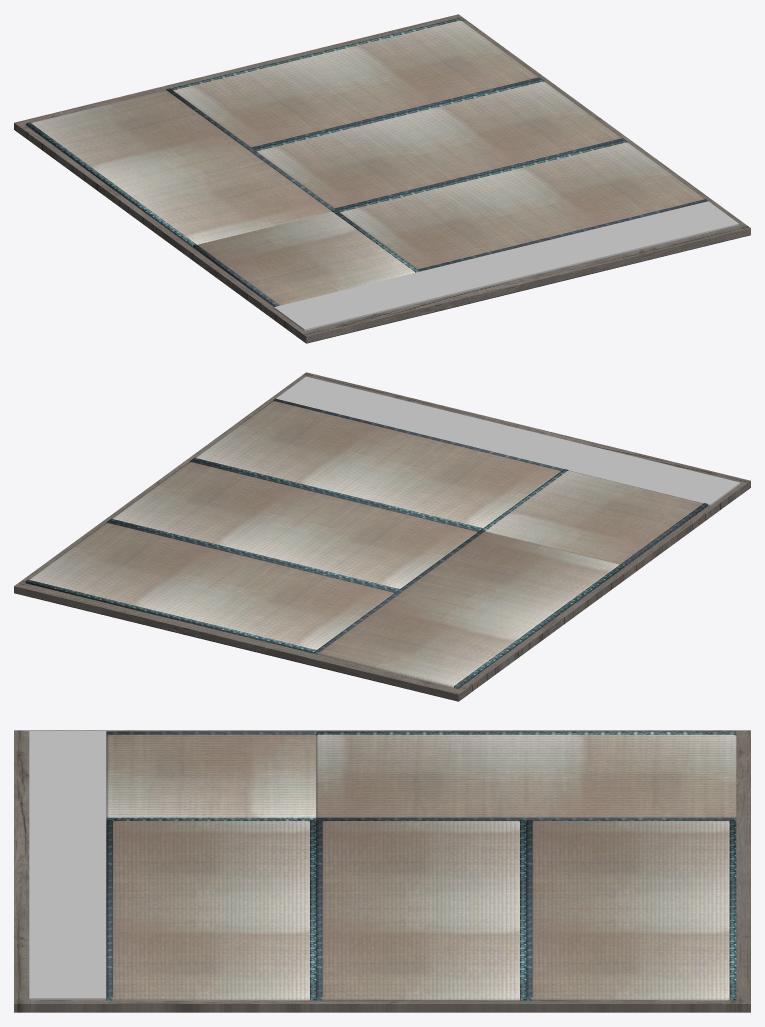
File: jov_tatami_4.5tb.fbx
3 views of the same model, one above another, from view 1: azimuth 30°, elevation 25°; view 2: azimuth 150°, elevation 25°; view 3: azimuth 270°, elevation 25° (orthographic). The views are drawn at different scales.
Parts seen in each view (by area): view 1: jov_tatami_4.5tb; view 2: jov_tatami_4.5tb; view 3: jov_tatami_4.5tb.
Part boxes in pixels (x1=…): jov_tatami_4.5tb: x1=14, y1=14, x2=750, y2=343; jov_tatami_4.5tb: x1=14, y1=372, x2=750, y2=701; jov_tatami_4.5tb: x1=14, y1=730, x2=750, y2=1012.
Size of the model in its own units: 330 by 6.5 by 376.
